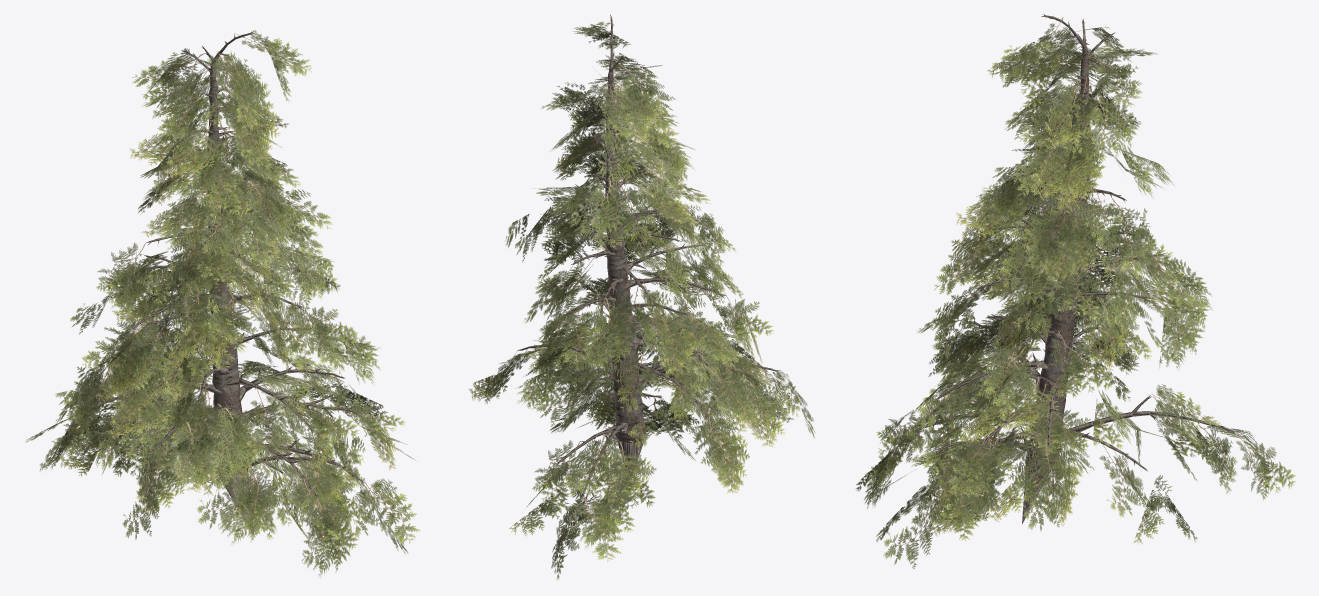
File: conifer.glb
3 renders of one model, left to right at view 1: azimuth 30°, elevation 25°; view 2: azimuth 150°, elevation 25°; view 3: azimuth 270°, elevation 25°, orthographic. The views are drawn at different scales.
Parts seen in each view (by area): view 1: Object_7, Object_3, Object_4, Object_9, Object_5, Object_8, Object_6, Object_2; view 2: Object_5, Object_7, Object_3, Object_6, Object_9, Object_4, Object_2, Object_8; view 3: Object_4, Object_7, Object_5, Object_6, Object_3, Object_9, Object_8, Object_2.
Boxes of the visible parts, x1,y1,x2,y2 form: Object_7: (39, 67, 397, 546); Object_3: (95, 94, 380, 577); Object_4: (63, 69, 405, 552); Object_9: (26, 34, 420, 544); Object_5: (46, 52, 379, 517); Object_8: (55, 30, 415, 554); Object_6: (51, 39, 406, 532); Object_2: (87, 31, 364, 537); Object_5: (505, 53, 800, 496); Object_7: (469, 77, 794, 504); Object_3: (515, 110, 772, 548); Object_6: (509, 26, 771, 541); Object_9: (486, 26, 745, 561); Object_4: (499, 70, 773, 579); Object_2: (517, 14, 780, 504); Object_8: (479, 21, 815, 482); Object_4: (856, 42, 1295, 540); Object_7: (910, 49, 1171, 536); Object_5: (905, 48, 1208, 528); Object_6: (933, 27, 1237, 544); Object_3: (864, 86, 1226, 513); Object_9: (865, 26, 1260, 542); Object_8: (872, 17, 1195, 568); Object_2: (897, 14, 1235, 524).
Size of the model in its own units: 8.4 by 11.96 by 9.35.
Materials: 8 (8 with a texture image).
